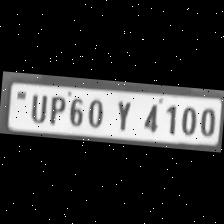0: (82, 96, 108, 129), (196, 105, 218, 136), (177, 104, 198, 136)
1: (160, 102, 180, 134)
4: (136, 98, 164, 134)
6: (64, 94, 86, 128)
P: (45, 92, 67, 126)
U: (26, 91, 48, 124)
Y: (107, 97, 136, 132)
